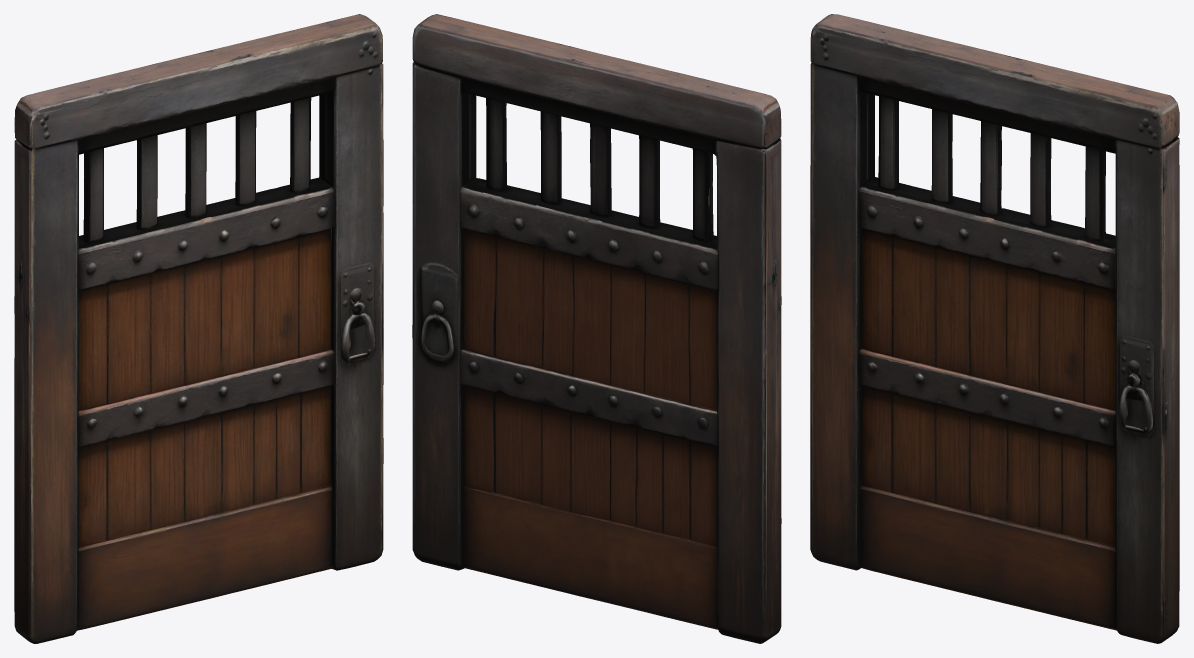
The model's file is blk_dungeon_door.glb.
3 views of the same model, side by side, from view 1: azimuth 30°, elevation 25°; view 2: azimuth 150°, elevation 25°; view 3: azimuth 330°, elevation 25° (orthographic).
Visible parts, largest first — view 1: model; view 2: model; view 3: model.
Part boxes in pixels (x1,y1,x2,y2): model: (14, 14, 383, 643); model: (412, 14, 781, 643); model: (810, 14, 1179, 643).
Bounding box in the file's own units: 1.27 × 1.84 × 0.1448.
1 material, 1 textured.
